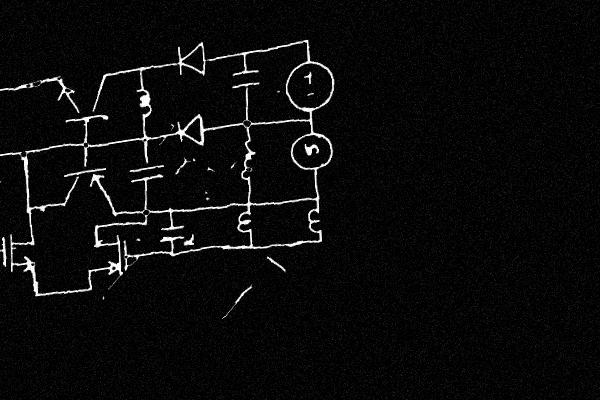capacitor: (128, 157, 167, 190), (230, 60, 261, 97), (158, 218, 185, 248)
diode: (175, 38, 212, 82), (175, 110, 211, 152), (0, 174, 5, 214)
inductor: (238, 130, 260, 190), (134, 82, 153, 123), (235, 205, 255, 240), (306, 202, 323, 239)
signal: (288, 126, 335, 178)
voltage: (283, 52, 336, 119)
